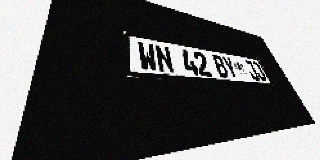2: (192, 51, 212, 77)
4: (179, 49, 200, 76)
B: (211, 54, 230, 78)
J: (243, 60, 261, 80), (251, 61, 268, 81)
N: (154, 44, 175, 74)
W: (137, 41, 159, 72)
Y: (221, 56, 240, 79)
